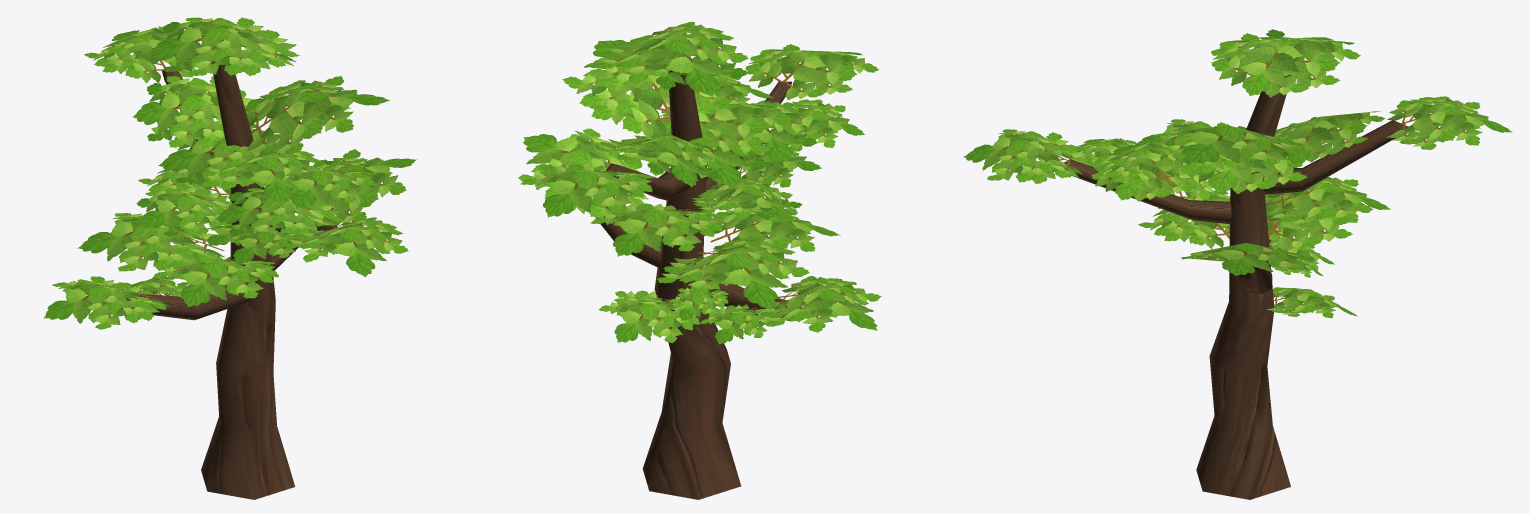
File: Tree_01.fbx
3 views of the same model, side by side, from view 1: azimuth 30°, elevation 25°; view 2: azimuth 150°, elevation 25°; view 3: azimuth 270°, elevation 25° (orthographic). The views are drawn at different scales.
Parts seen in each view (by area): view 1: pCylinder14; view 2: pCylinder14; view 3: pCylinder14.
Part boxes in pixels (x1,y1,x2,y2): pCylinder14: (43, 17, 416, 499); pCylinder14: (518, 21, 881, 499); pCylinder14: (963, 29, 1512, 499).
Bounding box in the file's own units: 13.44 × 15.2 × 17.86.
